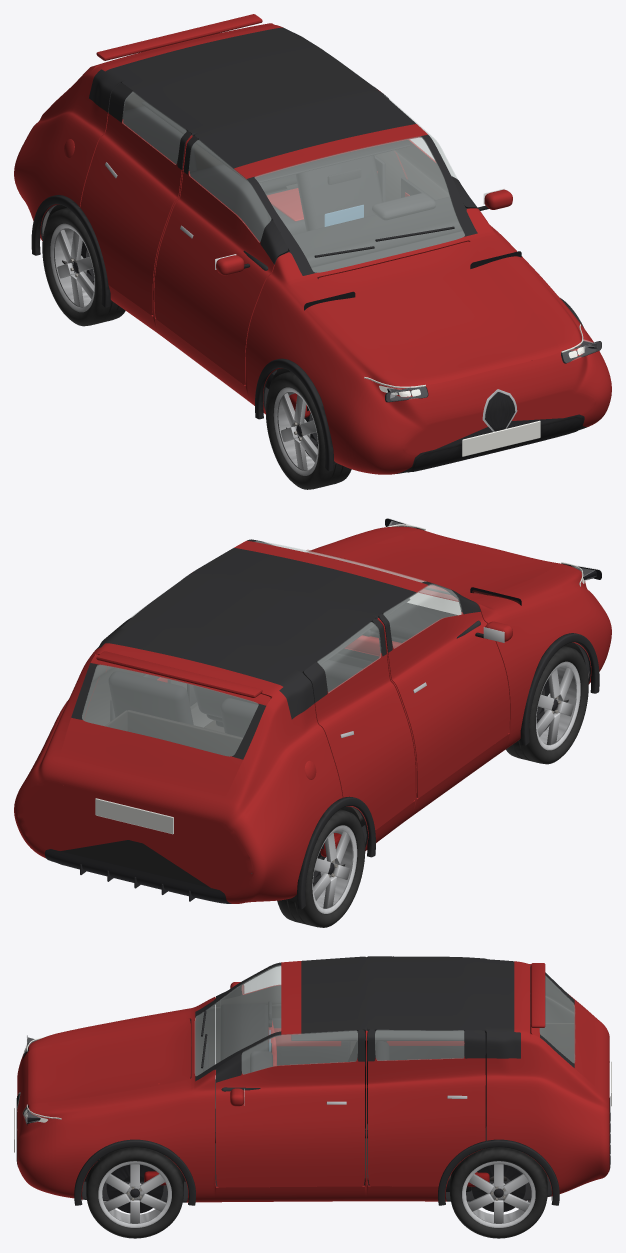
File: junior.glb
The picture shows the model from 3 angles, top to bottom: view 1: azimuth 30°, elevation 25°; view 2: azimuth 150°, elevation 25°; view 3: azimuth 270°, elevation 25°; orthographic projection. The views are drawn at different scales.
Parts seen in each view (by area): view 1: Body, Hood, Windshield, Door_FR, Door_RR, Dash_Top, Seat_FL_Back, Door_FR_Glass, Wheel_FR_Tire, Wheel_RR_Tire, Seat_FR_Back, Door_RR_Glass (+16 smaller); view 2: Body, Door_FR, Tailgate, Door_RR, Tailgate_Glass, Hood, Seat_RL_Back, Wheel_RR_Tire, Wheel_FR_Tire, Door_FR_Glass, Boot_Back, Diffuser (+16 smaller); view 3: Body, Door_FL, Door_RL, Hood, Windshield, Door_FL_Glass, Wheel_FL_Tire, Wheel_RL_Tire, Tailgate, Door_RL_Glass, Dash_Top, Tailgate_Glass (+16 smaller).
Part boxes in pixels (bbox=[...]): Body: bbox=[14, 23, 611, 474]; Hood: bbox=[318, 241, 559, 384]; Windshield: bbox=[254, 136, 464, 272]; Door_FR: bbox=[154, 136, 288, 384]; Door_RR: bbox=[80, 83, 191, 315]; Dash_Top: bbox=[243, 197, 467, 270]; Seat_FL_Back: bbox=[296, 155, 382, 231]; Door_FR_Glass: bbox=[189, 140, 271, 242]; Wheel_FR_Tire: bbox=[265, 371, 351, 489]; Wheel_RR_Tire: bbox=[42, 208, 125, 326]; Seat_FR_Back: bbox=[190, 164, 269, 241]; Door_RR_Glass: bbox=[122, 91, 186, 164]; Body: bbox=[14, 526, 611, 903]; Door_FR: bbox=[378, 590, 509, 798]; Tailgate: bbox=[56, 655, 270, 836]; Door_RR: bbox=[303, 618, 415, 835]; Tailgate_Glass: bbox=[82, 664, 258, 756]; Hood: bbox=[335, 529, 559, 600]; Seat_RL_Back: bbox=[108, 671, 193, 724]; Wheel_RR_Tire: bbox=[277, 809, 365, 927]; Wheel_FR_Tire: bbox=[506, 646, 588, 764]; Door_FR_Glass: bbox=[383, 584, 462, 648]; Boot_Back: bbox=[127, 710, 242, 756]; Diffuser: bbox=[45, 849, 229, 903]; Body: bbox=[17, 956, 609, 1202]; Door_FL: bbox=[216, 1029, 365, 1187]; Door_RL: bbox=[368, 1029, 485, 1186]; Hood: bbox=[28, 1019, 190, 1104]; Windshield: bbox=[195, 965, 280, 1075]; Door_FL_Glass: bbox=[242, 1030, 357, 1074]; Wheel_FL_Tire: bbox=[86, 1147, 183, 1238]; Wheel_RL_Tire: bbox=[450, 1147, 547, 1238]; Tailgate: bbox=[530, 966, 609, 1100]; Door_RL_Glass: bbox=[375, 1030, 464, 1060]; Dash_Top: bbox=[220, 1004, 268, 1091]; Tailgate_Glass: bbox=[540, 975, 574, 1063].
Bounding box in the file's own units: 1.94 × 1.53 × 4.21.
